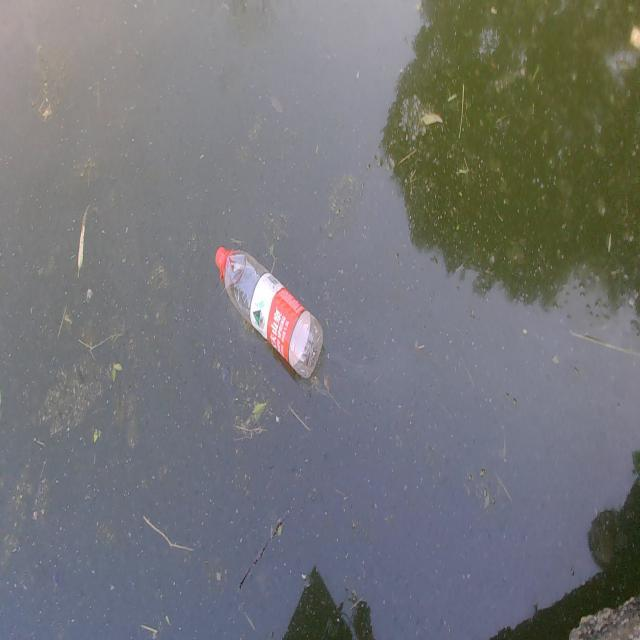bottle: (208, 240, 338, 386)
